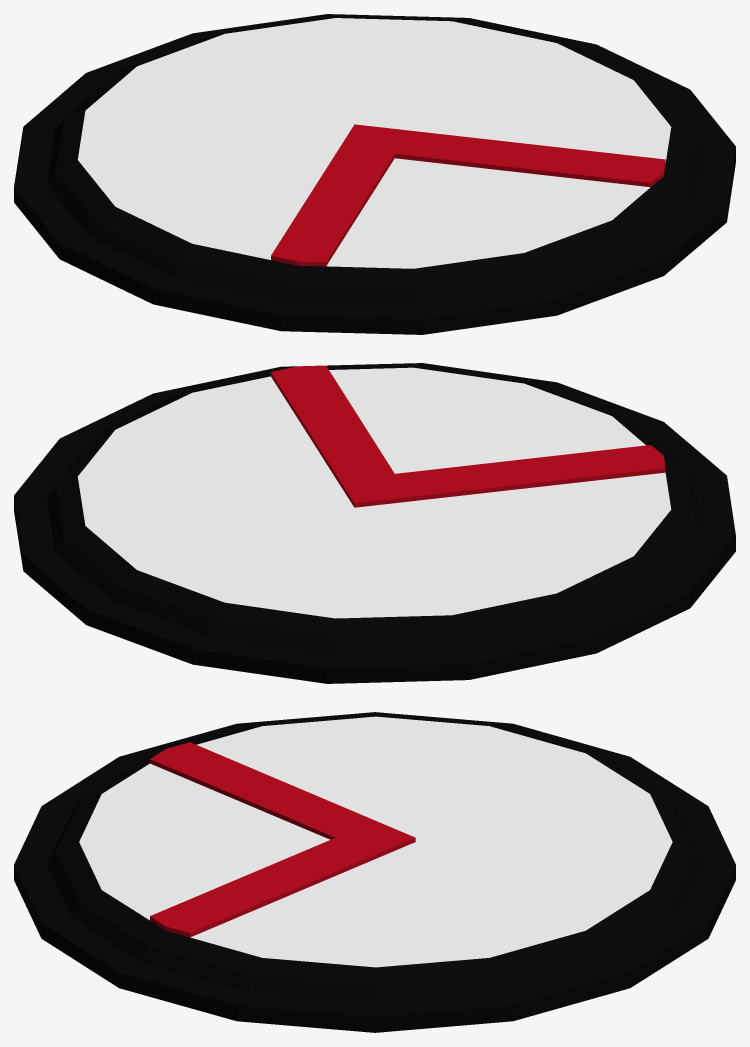
Rendered from SpaShield.fbx.
3 renders of one model, top to bottom at view 1: azimuth 30°, elevation 25°; view 2: azimuth 150°, elevation 25°; view 3: azimuth 270°, elevation 25°, orthographic.
Visible parts, largest first — view 1: SpaShield; view 2: SpaShield; view 3: SpaShield.
Boxes of the visible parts, box(x1,y1,x2,y2) form: SpaShield: box(14, 14, 735, 334); SpaShield: box(14, 363, 735, 683); SpaShield: box(14, 712, 735, 1032).
Bounding box in the file's own units: 213 × 13.89 × 213.
